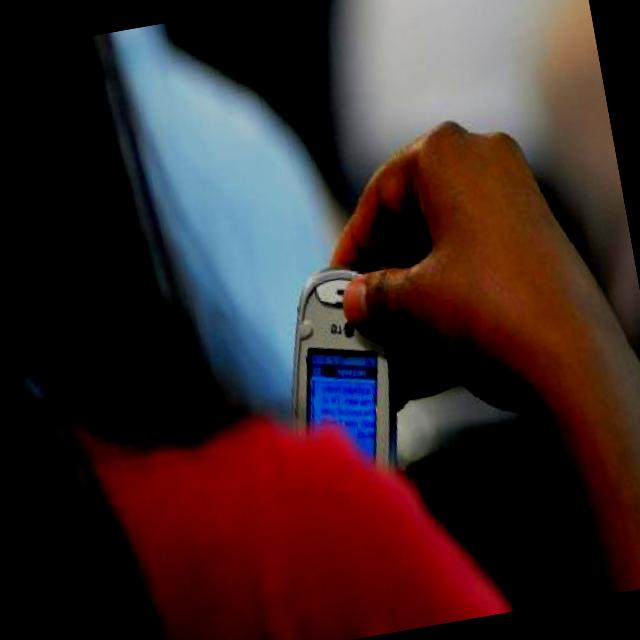Person: (0, 0, 513, 640), (306, 99, 640, 615)
